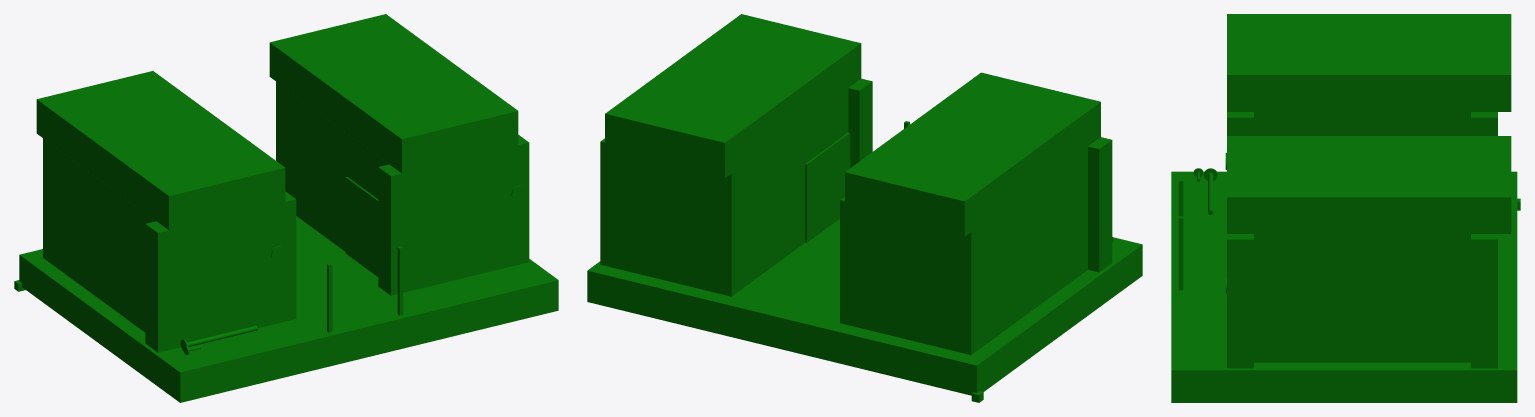
Rendered from Image-1710907553926-2281240446928_63-XK50.fbx.
3 views of the same model, side by side, from view 1: azimuth 30°, elevation 25°; view 2: azimuth 150°, elevation 25°; view 3: azimuth 270°, elevation 25° (orthographic). The views are drawn at different scales.
Visible parts, largest first — view 1: BOX 1 of SUBEQUIPMENT /63-XK50/PRIM, BOX 2 of SUBEQUIPMENT /63-XK50B, BOX 3 of SUBEQUIPMENT /63-XK50A, BOX 3 of SUBEQUIPMENT /63-XK50B, BOX 2 of SUBEQUIPMENT /63-XK50A, BOX 4 of SUBEQUIPMENT /63-XK50B, BOX 4 of SUBEQUIPMENT /63-XK50A, BOX 1 of SUBEQUIPMENT /63-KE50B, BOX 5 of SUBEQUIPMENT /63-XK50B, BOX 5 of SUBEQUIPMENT /63-XK50A, BOX 7 of SUBEQUIPMENT /63-XK50B; view 2: BOX 1 of SUBEQUIPMENT /63-XK50/PRIM, BOX 2 of SUBEQUIPMENT /63-XK50B, BOX 2 of SUBEQUIPMENT /63-XK50A, BOX 3 of SUBEQUIPMENT /63-XK50A, BOX 3 of SUBEQUIPMENT /63-XK50B, BOX 1 of SUBEQUIPMENT /63-KE50B, BOX 4 of SUBEQUIPMENT /63-XK50B, BOX 4 of SUBEQUIPMENT /63-XK50A, BOX 6 of SUBEQUIPMENT /63-XK50A, BOX 8 of SUBEQUIPMENT /63-XK50B; view 3: BOX 2 of SUBEQUIPMENT /63-XK50A, BOX 3 of SUBEQUIPMENT /63-XK50B, BOX 3 of SUBEQUIPMENT /63-XK50A, BOX 1 of SUBEQUIPMENT /63-XK50/PRIM, BOX 2 of SUBEQUIPMENT /63-XK50B, BOX 5 of SUBEQUIPMENT /63-XK50A, BOX 6 of SUBEQUIPMENT /63-XK50A, BOX 5 of SUBEQUIPMENT /63-XK50B, BOX 8 of SUBEQUIPMENT /63-XK50B, BOX 7 of SUBEQUIPMENT /63-XK50B, /63-XK50/TP02.
Part boxes in pixels (<box>): BOX 1 of SUBEQUIPMENT /63-XK50/PRIM: <box>19,216,558,402</box>; BOX 2 of SUBEQUIPMENT /63-XK50B: <box>43,138,285,349</box>; BOX 3 of SUBEQUIPMENT /63-XK50A: <box>269,14,518,173</box>; BOX 3 of SUBEQUIPMENT /63-XK50B: <box>36,71,285,230</box>; BOX 2 of SUBEQUIPMENT /63-XK50A: <box>276,81,518,292</box>; BOX 4 of SUBEQUIPMENT /63-XK50B: <box>145,221,168,352</box>; BOX 4 of SUBEQUIPMENT /63-XK50A: <box>378,164,401,295</box>; BOX 1 of SUBEQUIPMENT /63-KE50B: <box>345,177,378,276</box>; BOX 5 of SUBEQUIPMENT /63-XK50B: <box>285,191,296,321</box>; BOX 5 of SUBEQUIPMENT /63-XK50A: <box>518,135,529,264</box>; BOX 7 of SUBEQUIPMENT /63-XK50B: <box>397,246,403,315</box>; BOX 1 of SUBEQUIPMENT /63-XK50/PRIM: <box>587,219,1142,395</box>; BOX 2 of SUBEQUIPMENT /63-XK50B: <box>851,147,1087,354</box>; BOX 2 of SUBEQUIPMENT /63-XK50A: <box>611,88,848,296</box>; BOX 3 of SUBEQUIPMENT /63-XK50A: <box>605,14,861,177</box>; BOX 3 of SUBEQUIPMENT /63-XK50B: <box>845,72,1100,236</box>; BOX 1 of SUBEQUIPMENT /63-KE50B: <box>805,132,850,242</box>; BOX 4 of SUBEQUIPMENT /63-XK50B: <box>1088,137,1112,272</box>; BOX 4 of SUBEQUIPMENT /63-XK50A: <box>848,78,872,167</box>; BOX 6 of SUBEQUIPMENT /63-XK50A: <box>600,138,611,267</box>; BOX 8 of SUBEQUIPMENT /63-XK50B: <box>840,197,851,325</box>; BOX 2 of SUBEQUIPMENT /63-XK50A: <box>1254,234,1470,362</box>; BOX 3 of SUBEQUIPMENT /63-XK50B: <box>1227,14,1511,111</box>; BOX 3 of SUBEQUIPMENT /63-XK50A: <box>1227,136,1511,233</box>; BOX 1 of SUBEQUIPMENT /63-XK50/PRIM: <box>1171,171,1517,402</box>; BOX 2 of SUBEQUIPMENT /63-XK50B: <box>1254,112,1470,135</box>; BOX 5 of SUBEQUIPMENT /63-XK50A: <box>1227,234,1253,368</box>; BOX 6 of SUBEQUIPMENT /63-XK50A: <box>1471,234,1497,368</box>; BOX 5 of SUBEQUIPMENT /63-XK50B: <box>1227,112,1253,135</box>; BOX 8 of SUBEQUIPMENT /63-XK50B: <box>1471,112,1497,135</box>; BOX 7 of SUBEQUIPMENT /63-XK50B: <box>1178,216,1183,290</box>; /63-XK50/TP02: <box>1204,168,1217,214</box>.
Size of the model in its own units: 5.25 by 3.86 by 2.47.
